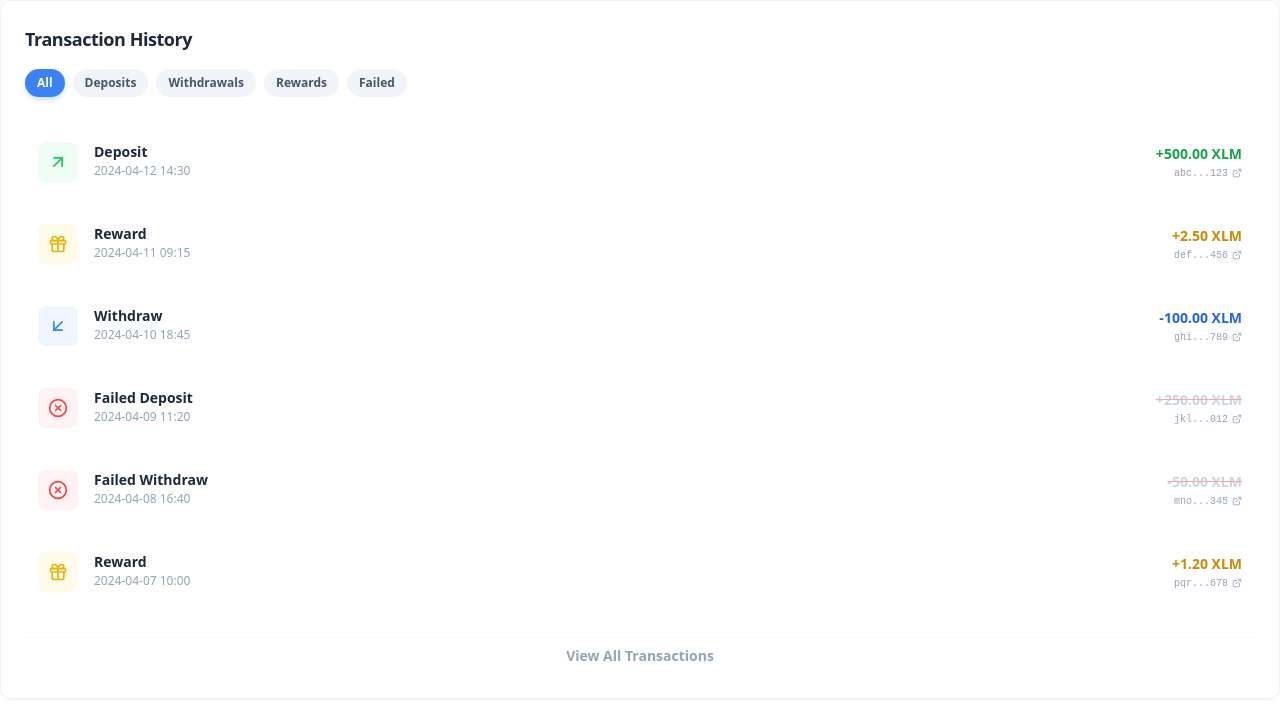
Scenario: TransactionHistory › filters by failed transactions
Click the button "Failed".
click(377, 83)  # box top-left (347, 69), bottom-right (407, 97)
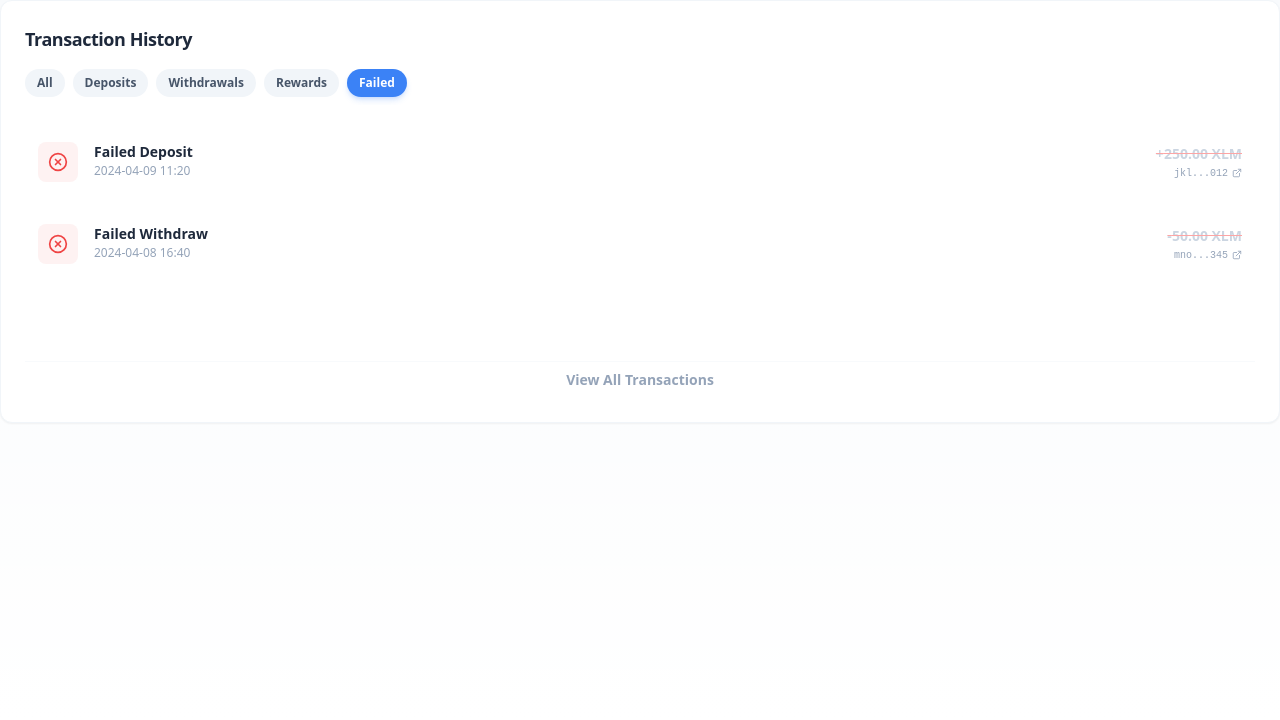
Expected: the text "Failed deposit" is shown, top-left (94, 145), bottom-right (193, 159)
Expected: the number of links is 2, top-left (1174, 168), bottom-right (1242, 178); top-left (1167, 248), bottom-right (1242, 262)
